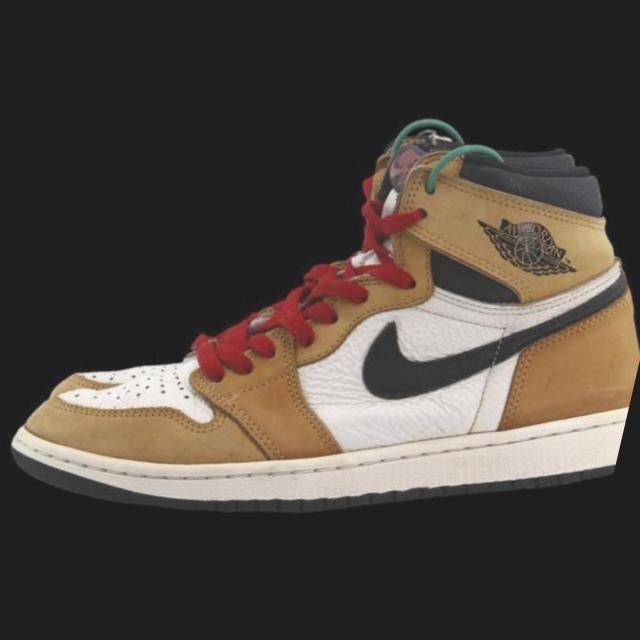nike_original_jordan: (0, 3, 640, 640), (0, 31, 637, 514)
